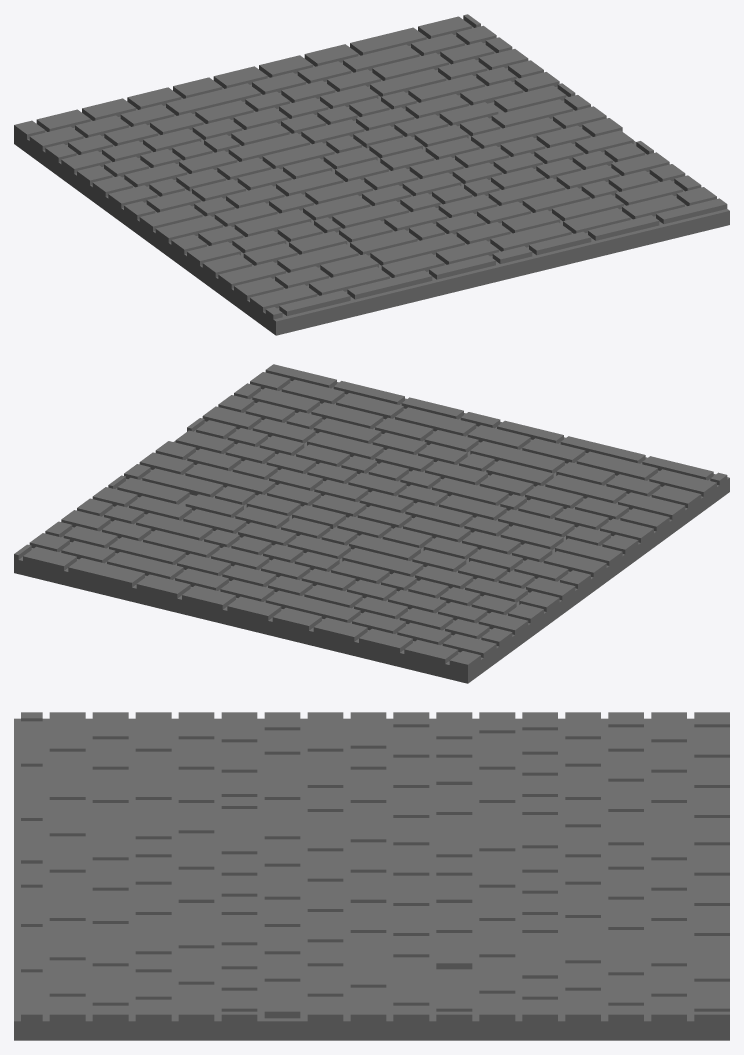
Rendered from Floor3doubleheight.obj.
3 views of the same model, one above another, from view 1: azimuth 30°, elevation 25°; view 2: azimuth 150°, elevation 25°; view 3: azimuth 270°, elevation 25° (orthographic). The views are drawn at different scales.
Bounding box in the file's own units: 10 × 0.4 × 10.
1 material, 1 textured.
